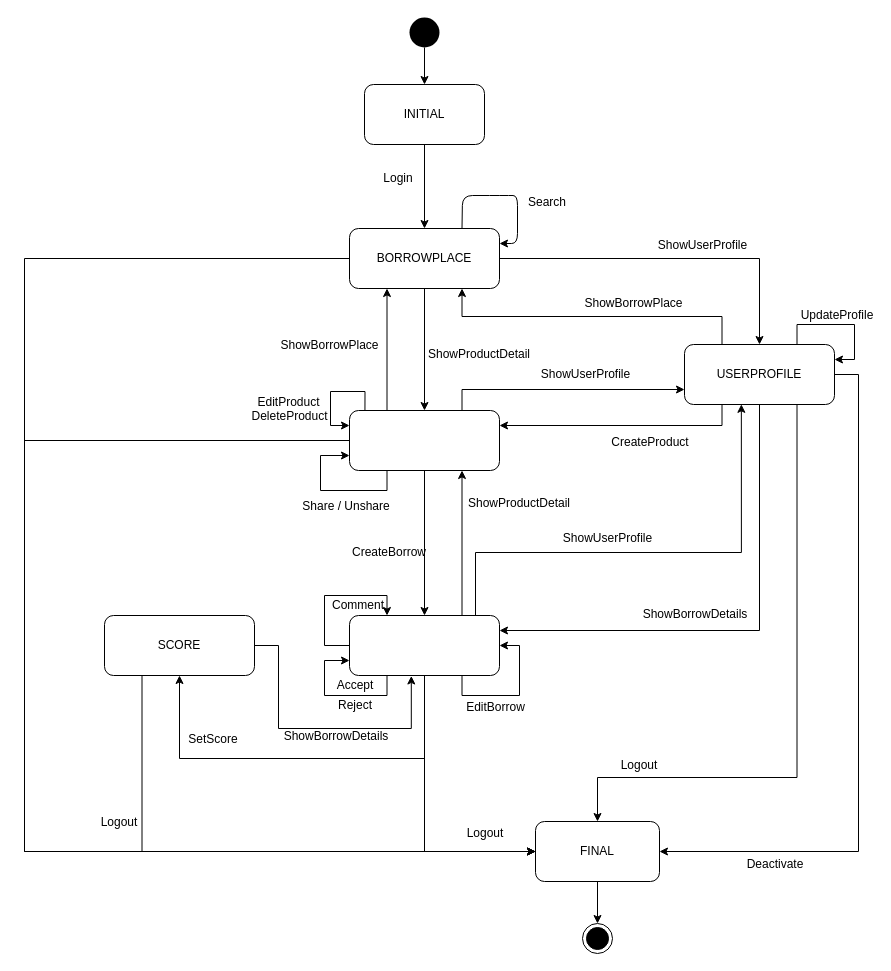
This 891x971 diagram has some shape labels left out. Each missing label, with the centre of its shape:
BORROWDETAIL: point 424,645
PRODUCTDETAIL: point 424,440
